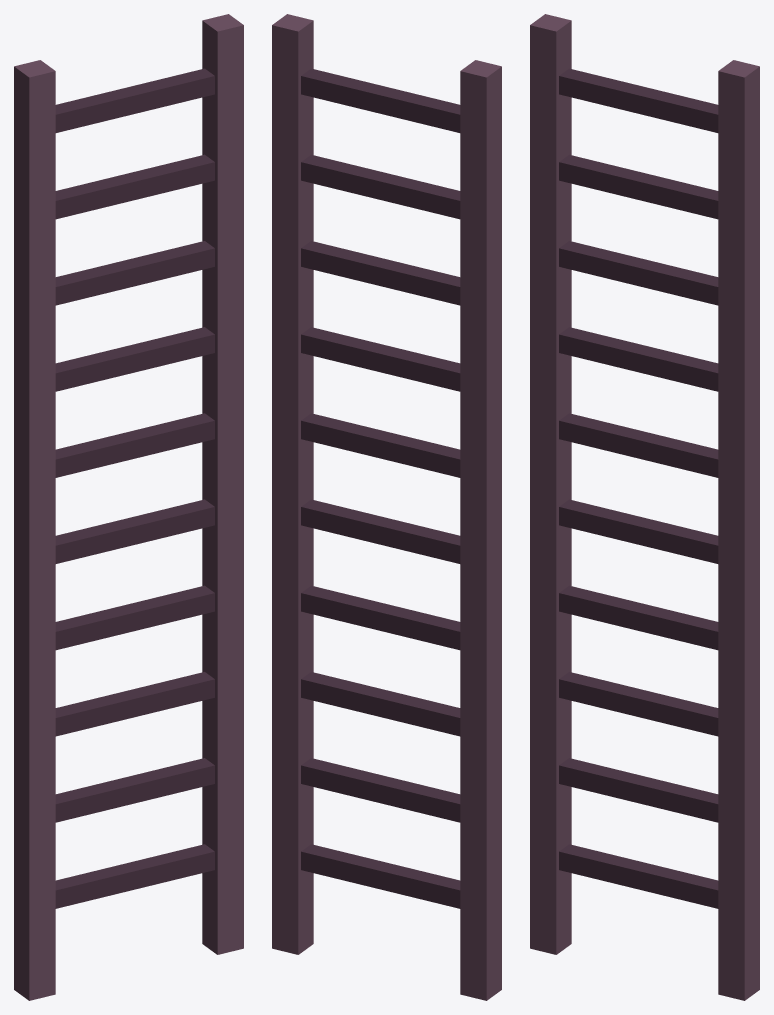
File: Mine_Ladder.obj
3 renders of one model, left to right at view 1: azimuth 30°, elevation 25°; view 2: azimuth 150°, elevation 25°; view 3: azimuth 330°, elevation 25°, orthographic.
Parts seen in each view (by area): view 1: Mine_Ladder; view 2: Mine_Ladder; view 3: Mine_Ladder.
Boxes of the visible parts, bbox=[...] form: Mine_Ladder: bbox=[14, 14, 243, 1000]; Mine_Ladder: bbox=[272, 14, 501, 1000]; Mine_Ladder: bbox=[530, 14, 759, 1000].
Bounding box in the file's own units: 0.73 × 3 × 0.09.
